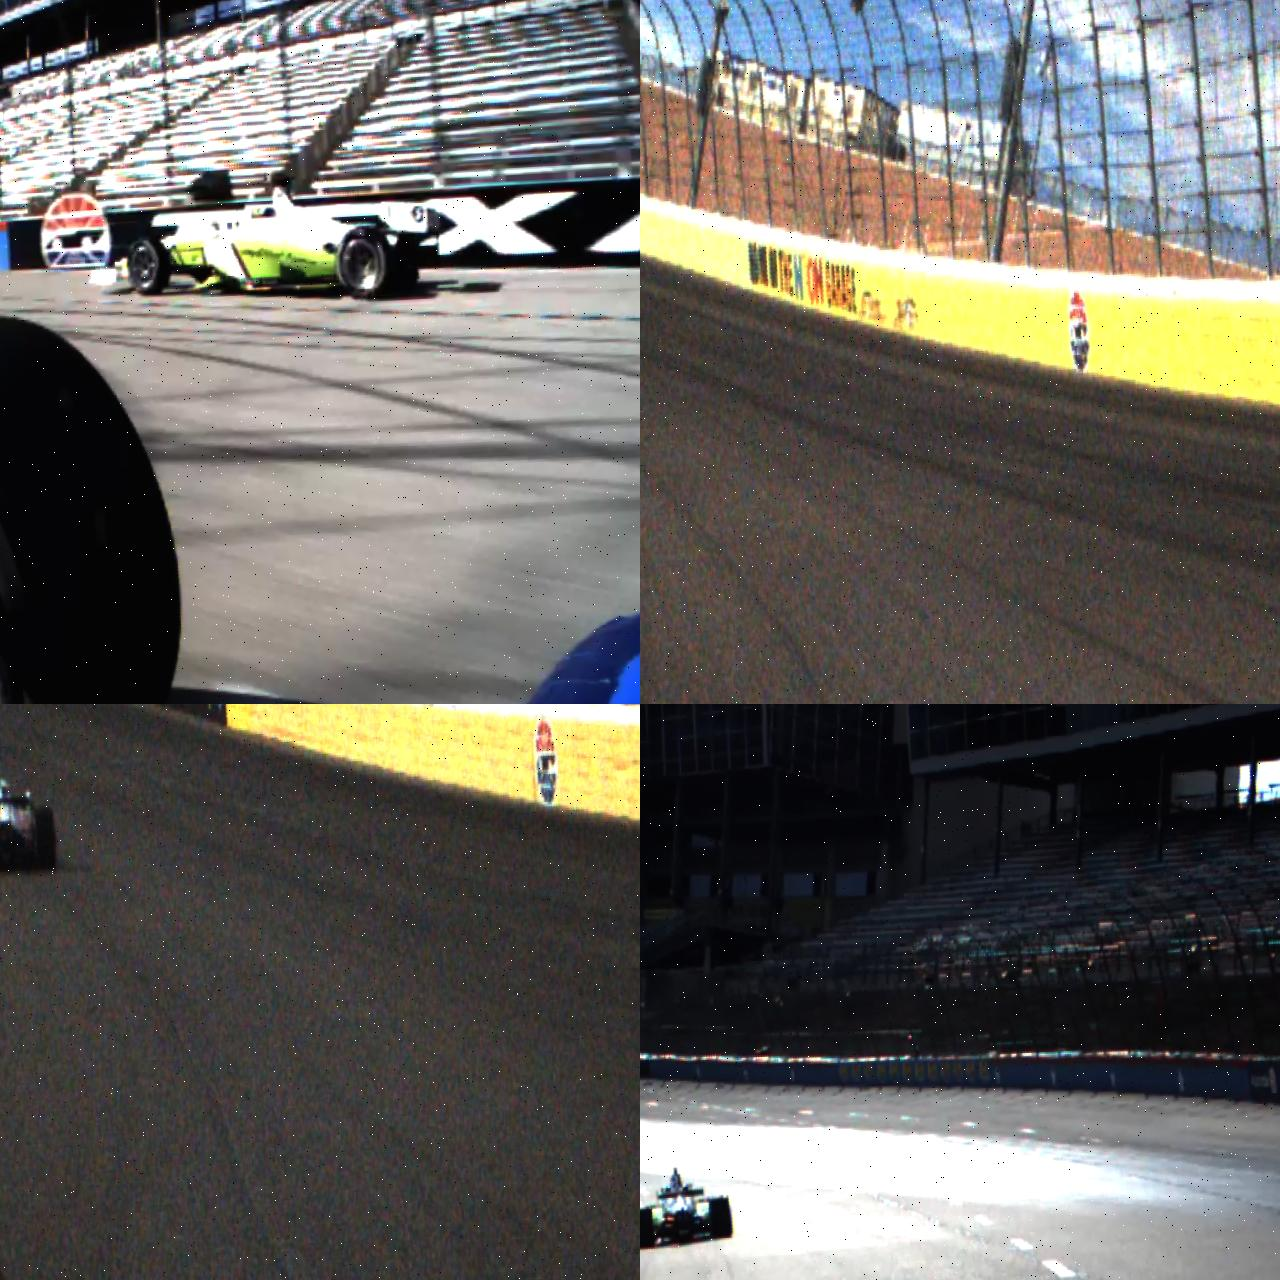AV: (82, 163, 417, 315), (640, 1164, 731, 1250), (0, 750, 57, 877)
Wheel: (0, 302, 193, 704), (335, 223, 394, 300), (127, 234, 171, 298), (33, 806, 57, 871), (709, 1196, 731, 1238), (640, 1208, 653, 1248)
